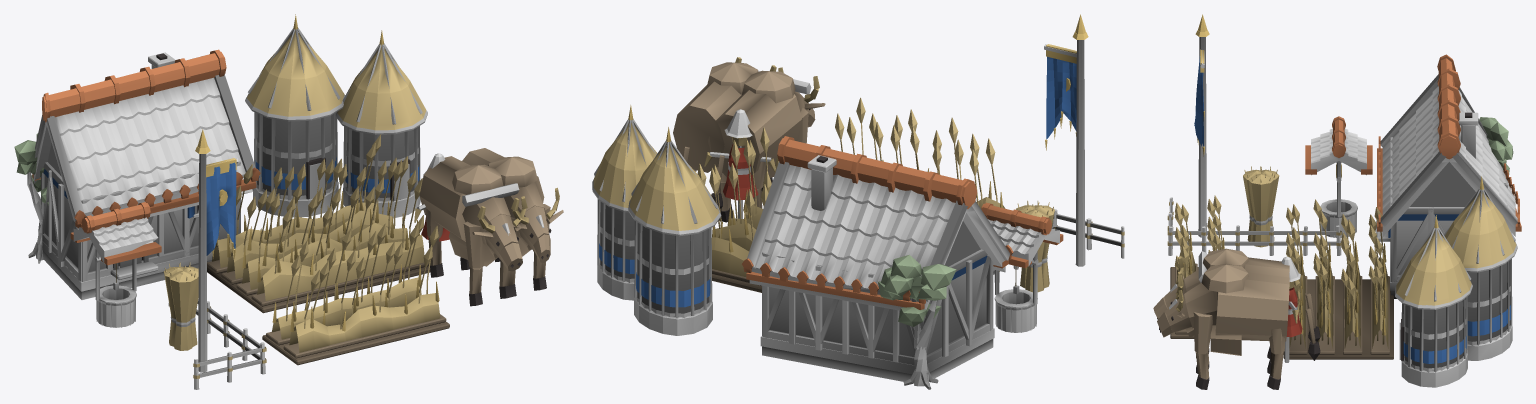
The model's file is farm-l2.glb.
3 views of the same model, side by side, from view 1: azimuth 30°, elevation 25°; view 2: azimuth 150°, elevation 25°; view 3: azimuth 270°, elevation 25° (orthographic). The views are drawn at different scales.
Visible parts, largest first — view 1: farm-l2; view 2: farm-l2; view 3: farm-l2.
Boxes of the visible parts, <box> form: farm-l2: <box>14,14,563,389</box>; farm-l2: <box>592,14,1124,389</box>; farm-l2: <box>1153,14,1521,389</box>.
Size of the model in its own units: 1.38 by 0.8167 by 1.22.
